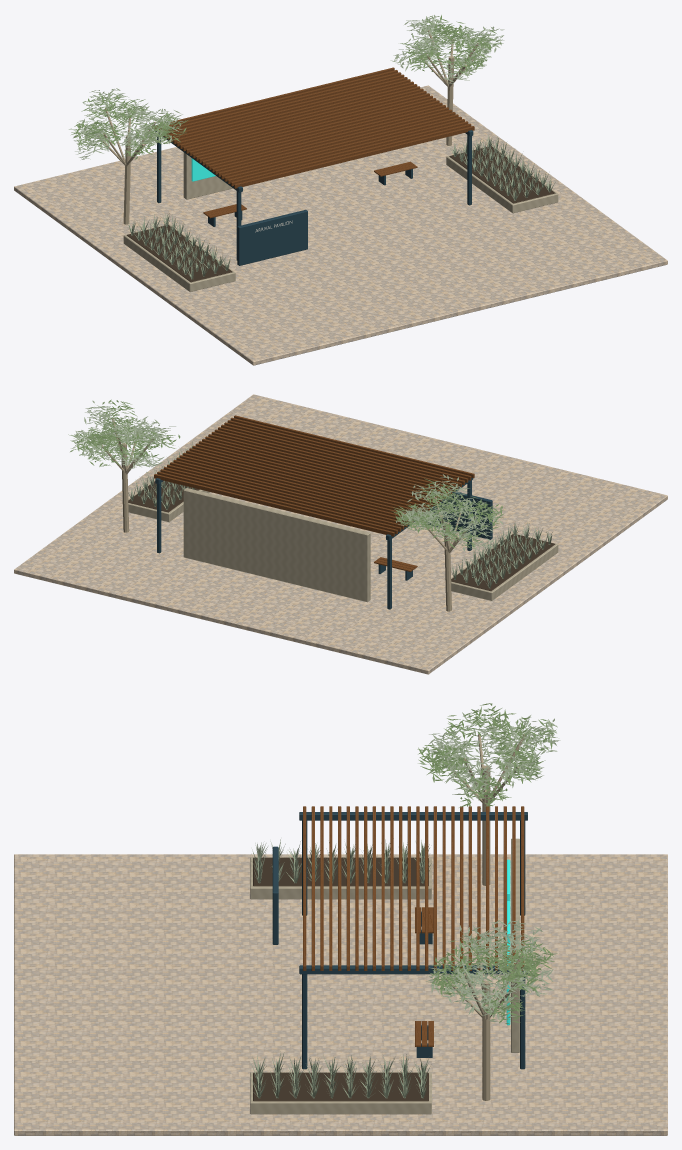
File: arrival.glb
The picture shows the model from 3 angles, top to bottom: view 1: azimuth 30°, elevation 25°; view 2: azimuth 150°, elevation 25°; view 3: azimuth 270°, elevation 25°; orthographic projection. The views are drawn at different scales.
Visible parts, largest first — view 1: Whole item paving.001, Place identity, Mulch.008, Mulch.009, Timber shade slat, Garden edge.008, Garden edge.009, Welcome rear wall, Timber shade slat.007, Timber shade slat.016, Timber shade slat.002, Timber shade slat.006 (+21 smaller); view 2: Whole item paving.001, Welcome rear wall, Mulch.008, Timber shade slat.025, Garden edge.008, Place identity, Timber shade slat.001, Timber shade slat, Timber shade slat.023, Timber shade slat.024, Timber shade slat.022, Timber shade slat.002 (+23 smaller); view 3: Whole item paving.001, Mulch.009, Mulch.008, Garden edge.009, Garden edge.008, Shade beam, Shade beam.001, Welcome rear wall, branch.024, Place identity, bench part.002, Timber shade slat.002 (+17 smaller).
Part boxes in pixels (x1,y1,x2,y2): Whole item paving.001: [14, 85, 667, 365]; Place identity: [237, 209, 307, 265]; Mulch.008: [126, 225, 232, 282]; Mulch.009: [449, 146, 555, 203]; Timber shade slat: [234, 126, 474, 188]; Garden edge.008: [123, 224, 235, 291]; Garden edge.009: [446, 145, 558, 213]; Welcome rear wall: [183, 152, 232, 199]; Timber shade slat.007: [211, 109, 452, 172]; Timber shade slat.016: [182, 88, 423, 151]; Timber shade slat.002: [227, 121, 468, 183]; Timber shade slat.006: [214, 112, 455, 174]; Whole item paving.001: [14, 394, 667, 674]; Welcome rear wall: [183, 488, 370, 602]; Mulch.008: [451, 534, 555, 591]; Timber shade slat.025: [154, 474, 394, 536]; Garden edge.008: [451, 533, 558, 600]; Place identity: [426, 491, 492, 539]; Timber shade slat.001: [230, 417, 471, 480]; Timber shade slat: [234, 415, 474, 478]; Timber shade slat.023: [160, 469, 401, 531]; Timber shade slat.024: [157, 471, 397, 534]; Timber shade slat.022: [163, 467, 404, 529]; Timber shade slat.002: [227, 420, 468, 482]; Whole item paving.001: [14, 854, 667, 1135]; Mulch.009: [253, 1072, 428, 1101]; Mulch.008: [253, 857, 428, 886]; Garden edge.009: [250, 1072, 431, 1114]; Garden edge.008: [250, 857, 431, 899]; Shade beam: [299, 812, 527, 820]; Shade beam.001: [299, 965, 527, 974]; Welcome rear wall: [511, 838, 519, 1052]; branch.024: [482, 980, 490, 1100]; Place identity: [272, 846, 278, 944]; bench part.002: [415, 1021, 433, 1057]; Timber shade slat.002: [320, 806, 323, 970].
Size of the model in its own units: 18.63 by 5.19 by 18.
10 materials, 3 textured.
